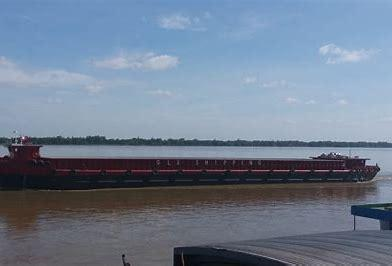Ship: (2, 142, 385, 192)
